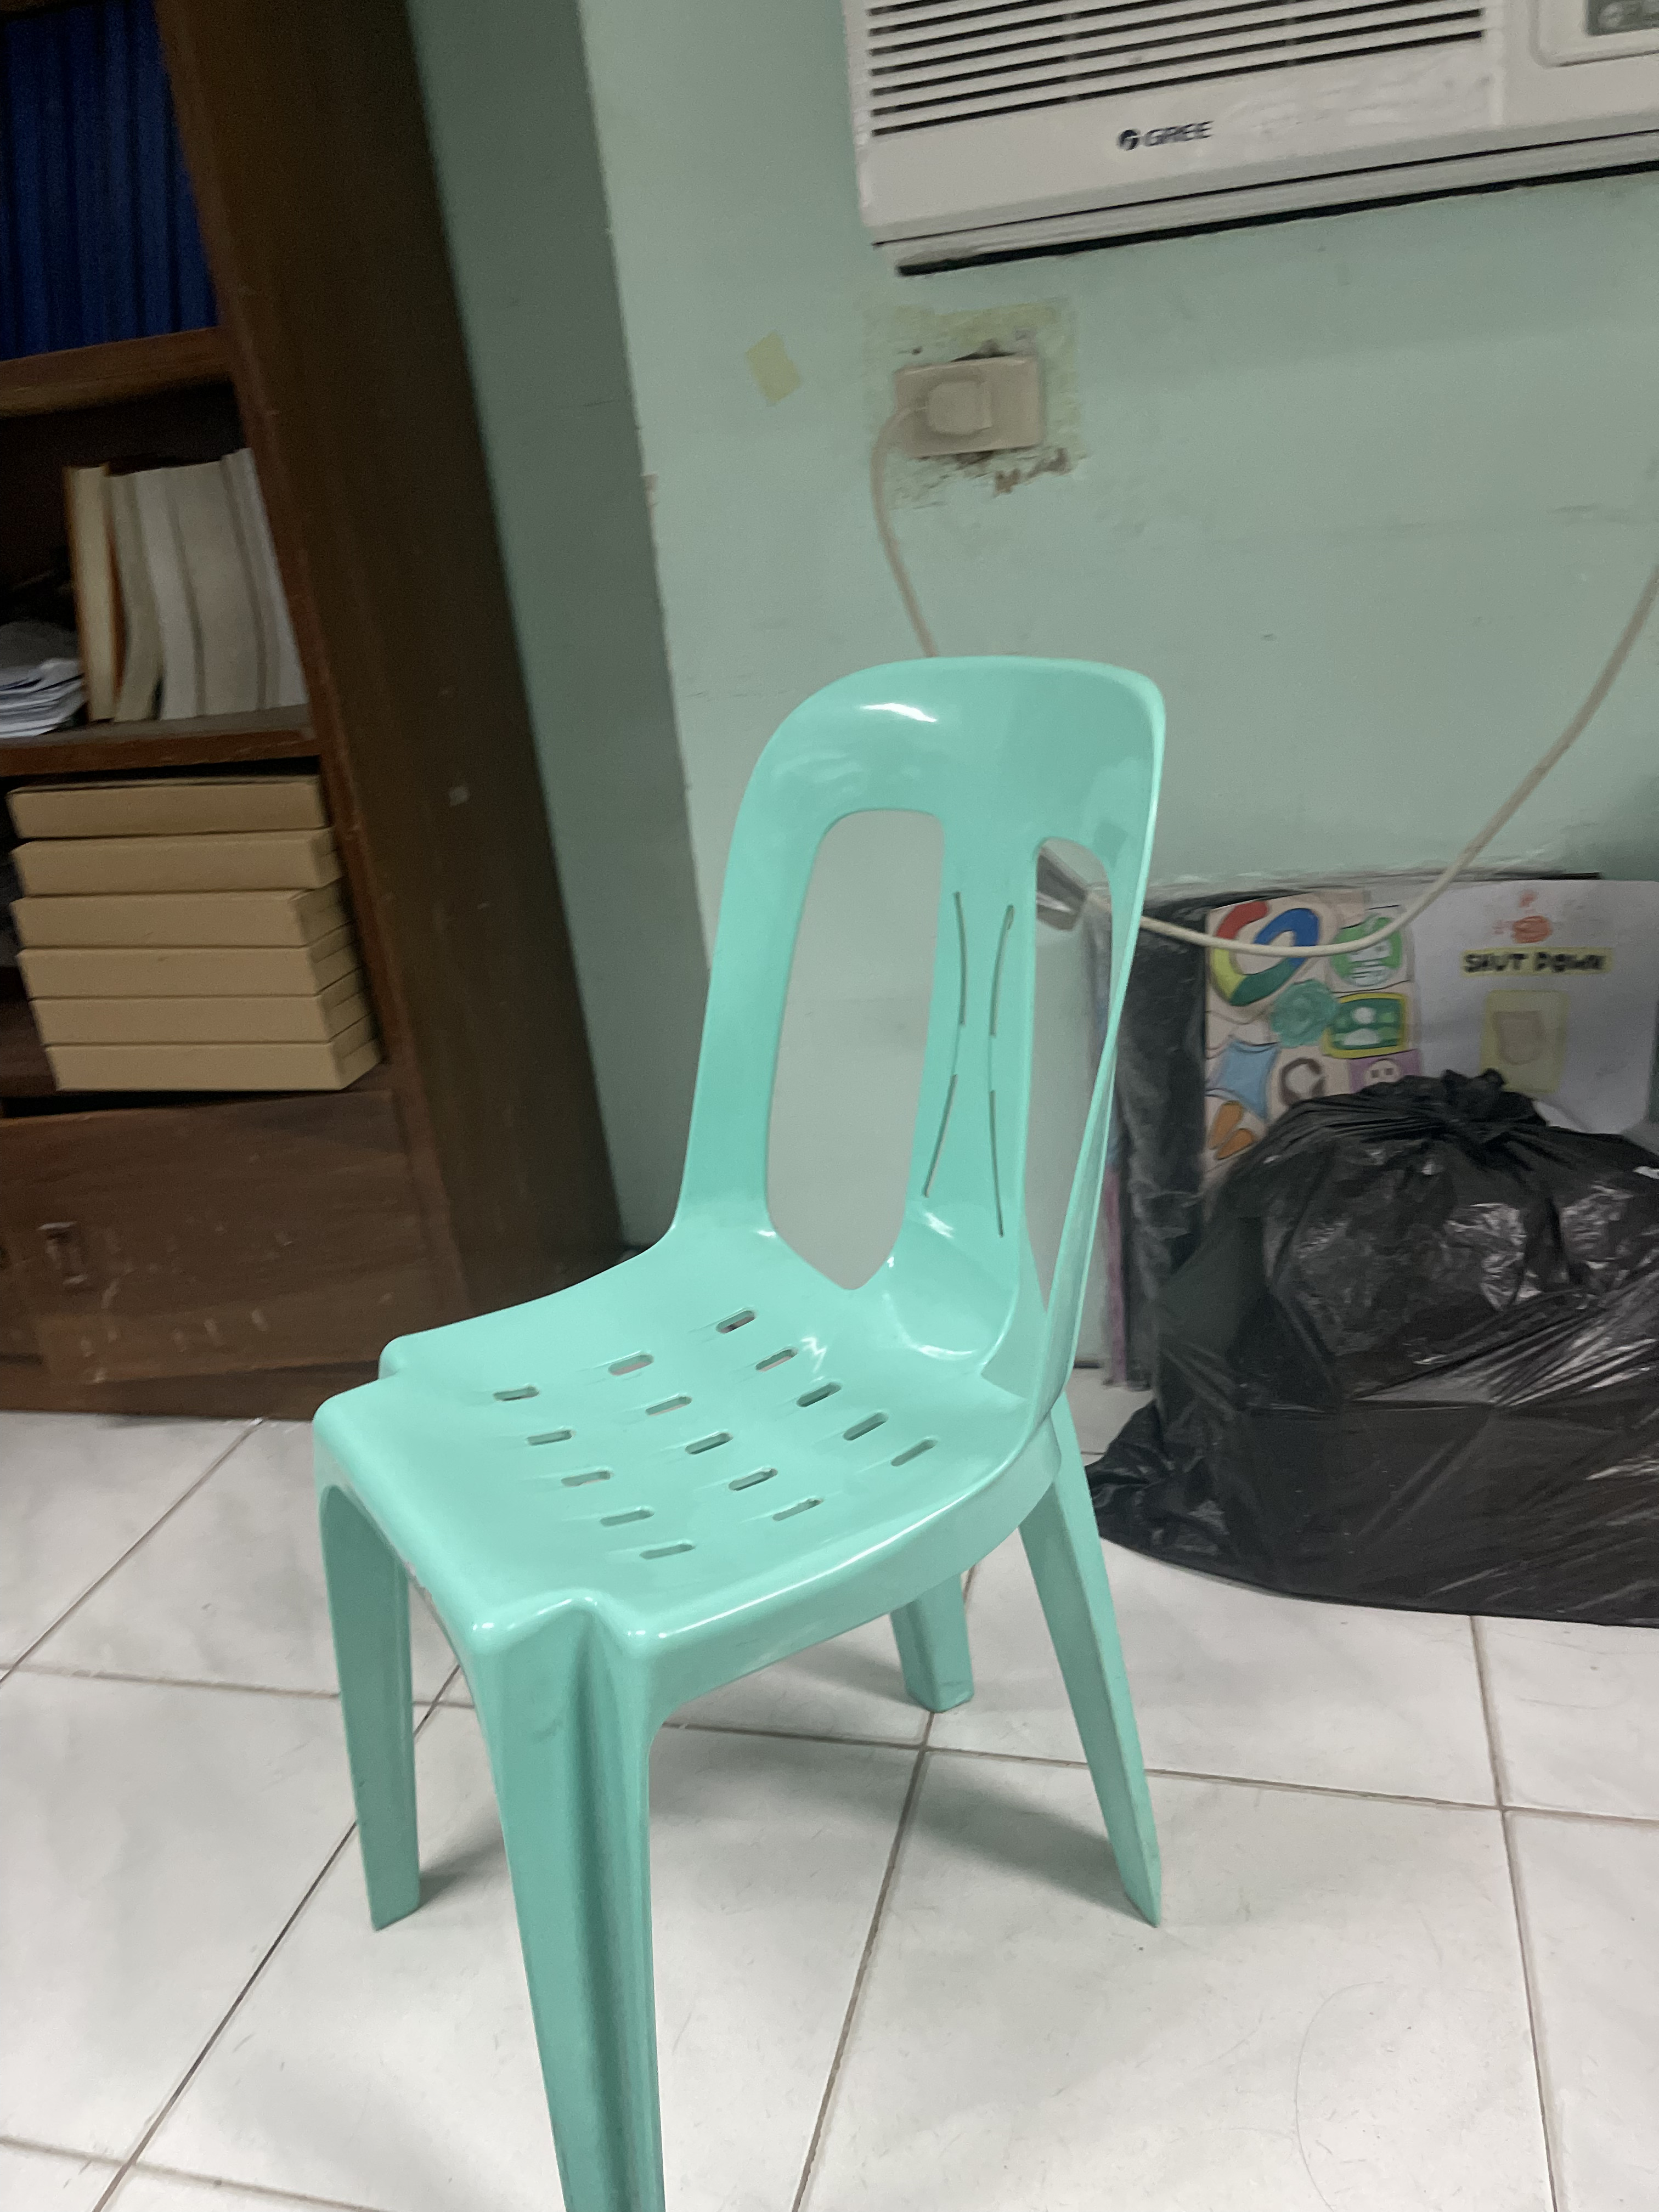chair2: (293, 639, 1201, 2212)
